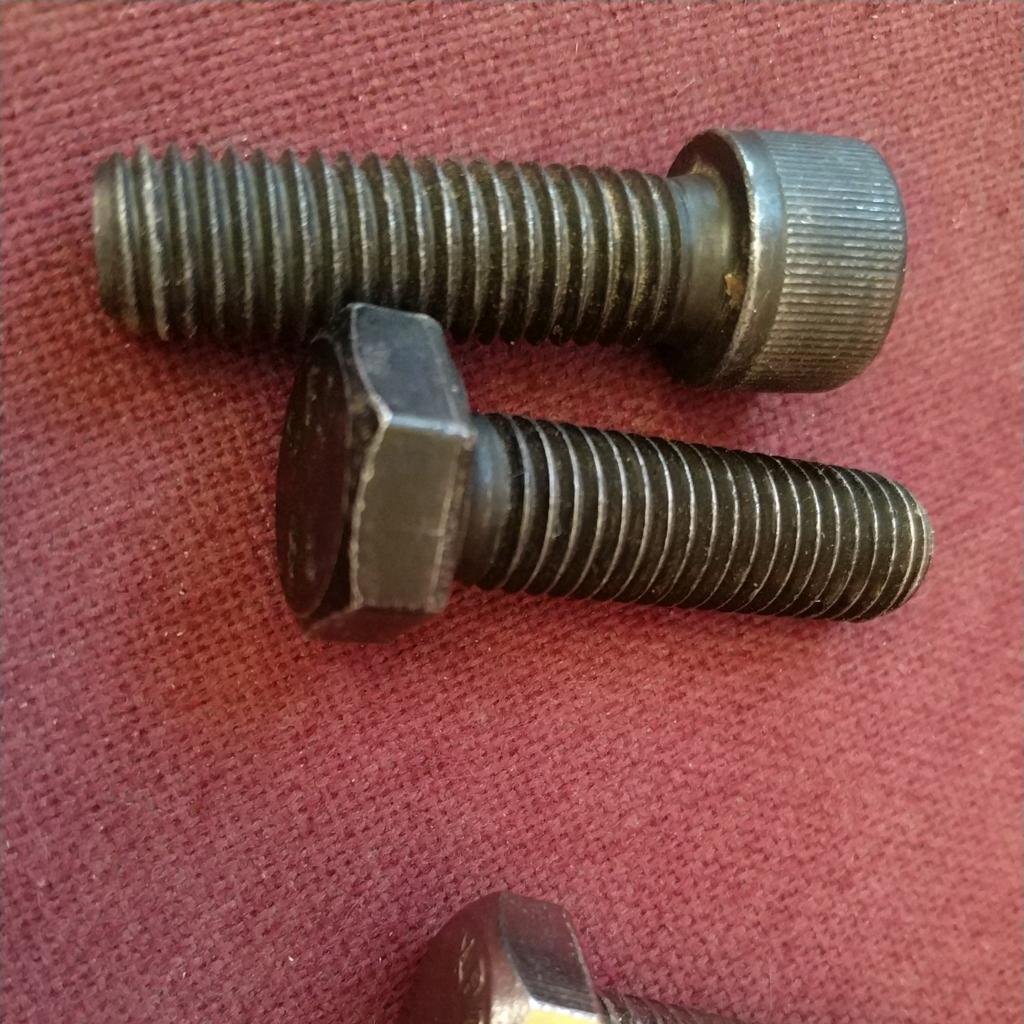screwtype1black: (68, 115, 915, 401)
screwtype2black: (273, 298, 936, 670)
screwtype2silver: (390, 890, 985, 1024)
